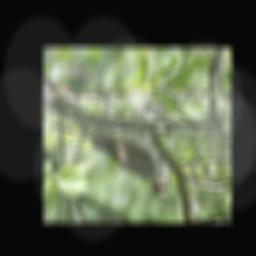Cuckoo: (48, 120, 168, 197)
